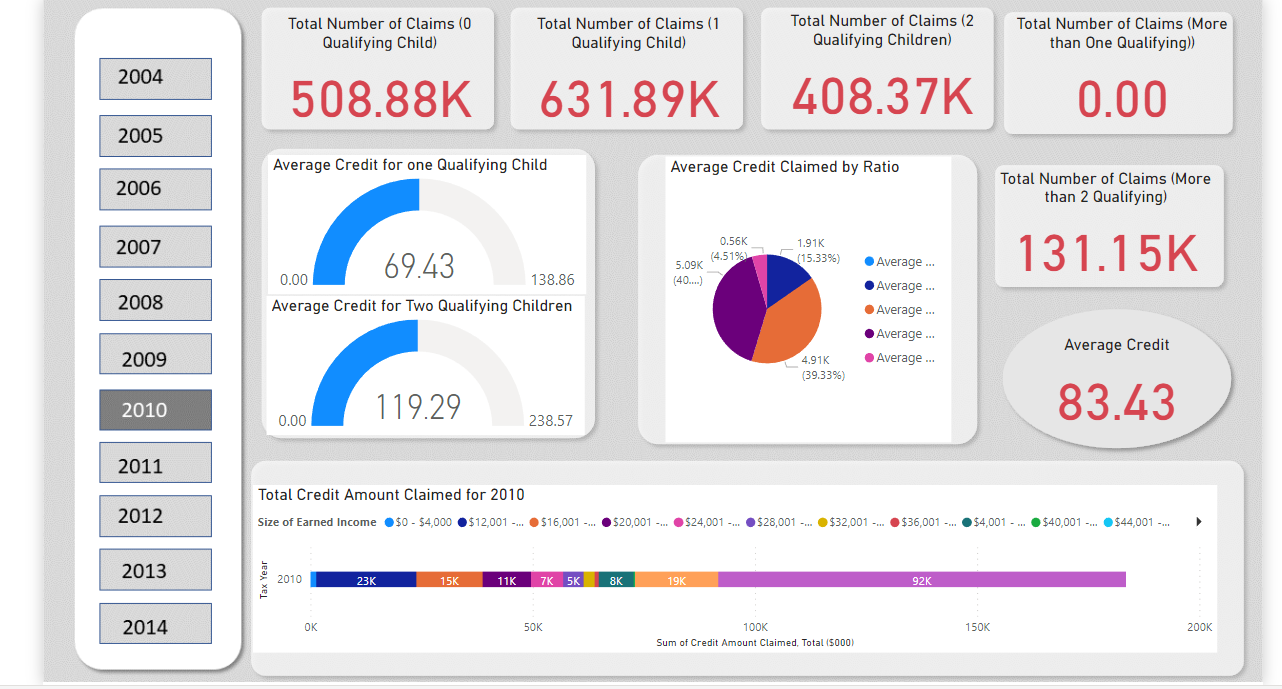

Layout of this report page (visuals, bound fields, positions):
{"tool":"powerbi","page":{"name":"2010","canvas":[1280,720],"ordinal":7},"visuals":[{"type":"actionButton","box":[57.1,121.4,121.4,44.3],"z":0},{"type":"actionButton","box":[57.1,61.4,121.4,44.3],"z":1000},{"type":"actionButton","box":[57.1,178.6,121.4,44.3],"z":2000},{"type":"actionButton","box":[57.1,238.6,121.4,44.3],"z":3000},{"type":"actionButton","box":[57.1,292.9,121.4,44.3],"z":4000},{"type":"actionButton","box":[57.1,350,121.4,44.3],"z":5000},{"type":"actionButton","box":[58.6,407.1,121.4,44.3],"z":6000},{"type":"actionButton","box":[57.1,464.3,121.4,44.3],"z":7000},{"type":"actionButton","box":[60,518.6,121.4,44.3],"z":8000},{"type":"actionButton","box":[57.1,518.6,124.3,54.3],"z":9000},{"type":"actionButton","box":[54.3,572.9,124.3,54.3],"z":10000},{"type":"actionButton","box":[58.6,627.1,124.3,54.3],"z":11000},{"type":"actionButton","box":[57.1,60,121.4,44.3],"z":12000},{"type":"actionButton","box":[57.1,237.1,121.4,44.3],"z":13000},{"type":"actionButton","box":[57.7,122.3,120.8,45.4],"z":14000},{"type":"actionButton","box":[57.1,181.4,121.4,44.3],"z":15000},{"type":"actionButton","box":[57.1,294.3,121.4,44.3],"z":16000},{"type":"actionButton","box":[57.1,348.6,121.4,44.3],"z":17000},{"type":"actionButton","box":[51.4,405.7,127.1,44.3],"z":18000},{"type":"actionButton","box":[57.1,462.9,121.4,44.3],"z":19000},{"type":"actionButton","box":[51.4,462.9,127.1,44.3],"z":20000},{"type":"actionButton","box":[51.4,522.9,127.1,44.3],"z":21000},{"type":"actionButton","box":[52.9,577.1,127.1,44.3],"z":22000},{"type":"actionButton","box":[60,634.3,115.7,44.3],"z":23000},{"type":"shape","box":[482,0,262,146],"z":24000},{"type":"shape","box":[744,0,262,146],"z":25000},{"type":"actionButton","box":[57.7,61.5,120.8,45.4],"z":26000},{"type":"actionButton","box":[67.7,132.3,120.8,45.4],"z":27000},{"type":"actionButton","box":[57.7,180,120.8,45.4],"z":28000},{"type":"actionButton","box":[57.7,237.7,120.8,45.4],"z":29000},{"type":"actionButton","box":[57.7,293.8,120.8,45.4],"z":30000},{"type":"actionButton","box":[57.7,352.3,120.8,45.4],"z":31000},{"type":"actionButton","box":[57.7,411.5,120.8,45.4],"z":32000},{"type":"actionButton","box":[57.7,465.4,120.8,45.4],"z":33000},{"type":"actionButton","box":[57.7,576.9,120.8,45.4],"z":34000},{"type":"actionButton","box":[57.7,521.5,120.8,45.4],"z":35000},{"type":"actionButton","box":[63.1,633.8,110.8,45.4],"z":36000},{"type":"shape","box":[990,166,258,146],"z":37000},{"type":"shape","box":[1000,4,258,146],"z":38000},{"type":"card","title":"Total Number of Claims (1 Qualifying Child)","fields":{"Values":["Sum(Earned_Income_Tax_Credit__New_Y.Number of Claims, One Qualifying Child)"]},"box":[490,16,250,124],"z":39000},{"type":"card","title":"Total Number of Claims (2 Qualifying Children)","fields":{"Values":["Sum(Earned_Income_Tax_Credit__New_Y.Number of Claims, Two Qualifying Children **)"]},"box":[756,12,250,124],"z":40000},{"type":"card","title":"Total Number of Claims (More than One Qualifying))","fields":{"Values":["Sum(Earned_Income_Tax_Credit__New_Y.Number of Claims, More than One Qualifying Child *)"]},"box":[1008,16,250,124],"z":41000},{"type":"card","title":"Total Number of Claims (More than 2 Qualifying)","fields":{"Values":["Sum(Earned_Income_Tax_Credit__New_Y.Number of Claims, More than Two Qualifying Children **)"]},"box":[990,178,250,124],"z":42000},{"type":"shape","box":[220,148,368,322],"z":43000},{"type":"shape","box":[616,154,374,322],"z":44000},{"type":"shape","box":[210,476,1060,244],"z":45000},{"type":"shape","box":[998,316,258,164],"z":46000},{"type":"card","title":"Average Credit ","fields":{"Values":["Avg(Earned_Income_Tax_Credit__New_Y.Average Credit, Total)"]},"box":[1028,352,198,106],"z":47000},{"type":"barChart","title":"Total Credit Amount Claimed for 2010","fields":{"Category":["Earned_Income_Tax_Credit__New_Y.Tax Year"],"Series":["Earned_Income_Tax_Credit__New_Y.Size of Earned Income"],"Y":["Sum(Earned_Income_Tax_Credit__New_Y.Credit Amount Claimed, Total ($000))"]},"box":[220,510,1012,176],"z":48000},{"type":"gauge","title":"Average Credit for one Qualifying Child ","fields":{"Y":["Avg(Earned_Income_Tax_Credit__New_Y.Average Credit, One Qualifying Child)"]},"box":[236,164,334,146],"z":49000},{"type":"gauge","title":"Average Credit for Two Qualifying Children","fields":{"Y":["Avg(Earned_Income_Tax_Credit__New_Y.Average Credit, Two Qualifying Children **)"]},"box":[234,312,334,146],"z":50000},{"type":"pieChart","title":"Average Credit Claimed by Ratio","fields":{"Y":["Avg(Earned_Income_Tax_Credit__New_Y.Credit Amount Claimed, More than One Qualifying Child ($000) *)","Avg(Earned_Income_Tax_Credit__New_Y.Credit Amount Claimed, More than Two Qualifying Children ($000) **)","Avg(Earned_Income_Tax_Credit__New_Y.Credit Amount Claimed, One Qualifying Child ($000))","Avg(Earned_Income_Tax_Credit__New_Y.Credit Amount Claimed, Two Qualifying Children ($000) **)","Avg(Earned_Income_Tax_Credit__New_Y.Credit Amount Claimed, Zero Qualifying Children ($000))"]},"box":[654,166,300,300],"z":51000},{"type":"shape","box":[220,0,262,146],"z":52000},{"type":"card","title":"Total Number of Claims (0 Qualifying Child)","fields":{"Values":["Sum(Earned_Income_Tax_Credit__New_Y.Number of Claims, Zero Qualifying Children)"]},"box":[228,16,250,124],"z":53000}]}

Visuals, with their boxes on the page's 1280x720 design canvas (x1, y1, x2, y2). These are canvas units, not pixel positions in the 1282x689 screenshot, which may show the page scaled, cropped or inside an application window:
actionButton: (57, 121, 178, 166)
actionButton: (57, 61, 178, 106)
actionButton: (57, 179, 178, 223)
actionButton: (57, 239, 178, 283)
actionButton: (57, 293, 178, 337)
actionButton: (57, 350, 178, 394)
actionButton: (59, 407, 180, 451)
actionButton: (57, 464, 178, 509)
actionButton: (60, 519, 181, 563)
actionButton: (57, 519, 181, 573)
actionButton: (54, 573, 179, 627)
actionButton: (59, 627, 183, 681)
actionButton: (57, 60, 178, 104)
actionButton: (57, 237, 178, 281)
actionButton: (58, 122, 178, 168)
actionButton: (57, 181, 178, 226)
actionButton: (57, 294, 178, 339)
actionButton: (57, 349, 178, 393)
actionButton: (51, 406, 178, 450)
actionButton: (57, 463, 178, 507)
actionButton: (51, 463, 178, 507)
actionButton: (51, 523, 178, 567)
actionButton: (53, 577, 180, 621)
actionButton: (60, 634, 176, 679)
shape: (482, 0, 744, 146)
shape: (744, 0, 1006, 146)
actionButton: (58, 62, 178, 107)
actionButton: (68, 132, 188, 178)
actionButton: (58, 180, 178, 225)
actionButton: (58, 238, 178, 283)
actionButton: (58, 294, 178, 339)
actionButton: (58, 352, 178, 398)
actionButton: (58, 412, 178, 457)
actionButton: (58, 465, 178, 511)
actionButton: (58, 577, 178, 622)
actionButton: (58, 522, 178, 567)
actionButton: (63, 634, 174, 679)
shape: (990, 166, 1248, 312)
shape: (1000, 4, 1258, 150)
"Total Number of Claims (1 Qualifying Child)" card: (490, 16, 740, 140)
"Total Number of Claims (2 Qualifying Children)" card: (756, 12, 1006, 136)
"Total Number of Claims (More than One Qualifying))" card: (1008, 16, 1258, 140)
"Total Number of Claims (More than 2 Qualifying)" card: (990, 178, 1240, 302)
shape: (220, 148, 588, 470)
shape: (616, 154, 990, 476)
shape: (210, 476, 1270, 720)
shape: (998, 316, 1256, 480)
"Average Credit " card: (1028, 352, 1226, 458)
"Total Credit Amount Claimed for 2010" barChart: (220, 510, 1232, 686)
"Average Credit for one Qualifying Child " gauge: (236, 164, 570, 310)
"Average Credit for Two Qualifying Children" gauge: (234, 312, 568, 458)
"Average Credit Claimed by Ratio" pieChart: (654, 166, 954, 466)
shape: (220, 0, 482, 146)
"Total Number of Claims (0 Qualifying Child)" card: (228, 16, 478, 140)
